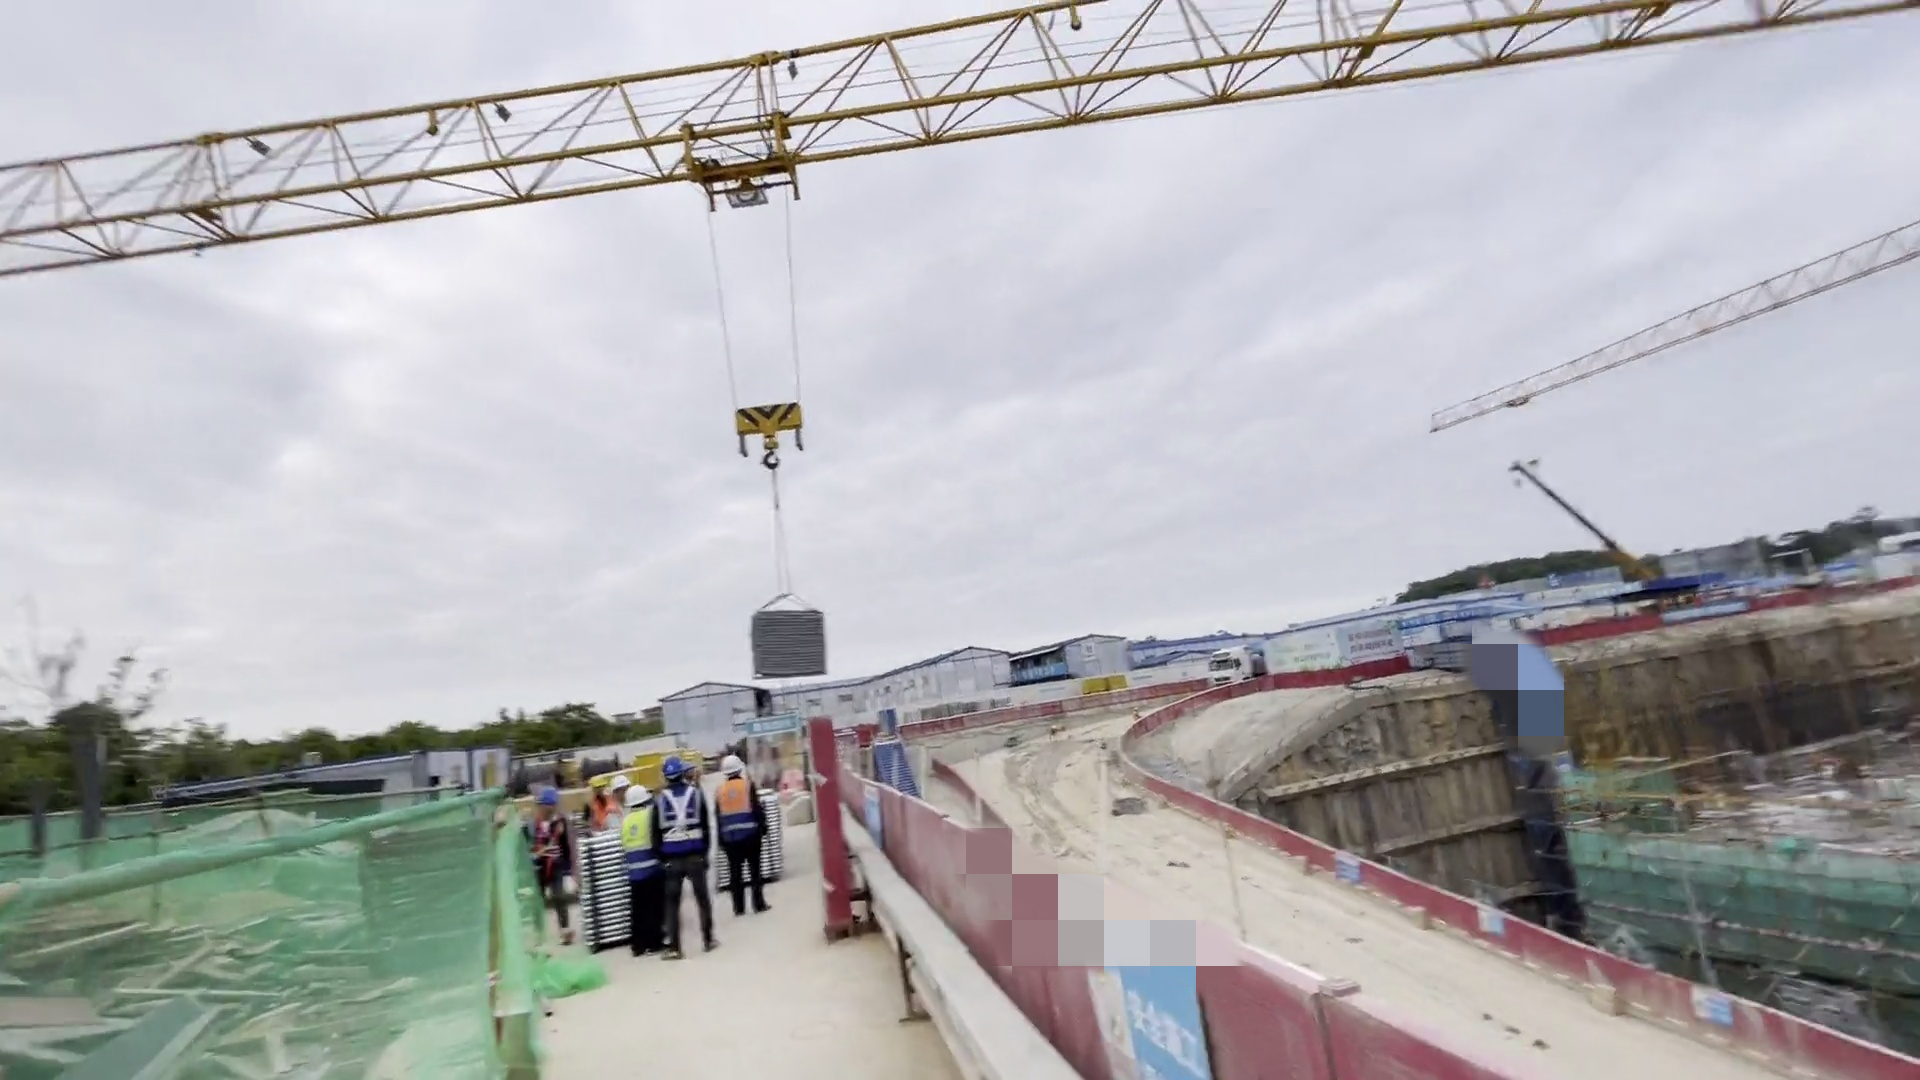fence: (809, 743, 1656, 1068)
helmet: (662, 753, 696, 784), (713, 753, 752, 779), (535, 783, 568, 810), (625, 785, 661, 808), (607, 773, 635, 793), (589, 773, 614, 794)
hook: (728, 393, 813, 465)
person: (657, 749, 728, 964), (522, 775, 589, 953), (712, 753, 780, 910), (622, 777, 665, 958), (610, 765, 630, 837), (590, 774, 612, 829)
scaffold: (746, 586, 837, 686)
slogan: (1038, 863, 1222, 1031), (1273, 589, 1418, 681), (965, 636, 1108, 717), (859, 784, 931, 873), (1677, 960, 1744, 1053), (1467, 884, 1522, 968), (1322, 841, 1388, 908)
vest: (717, 777, 766, 856), (662, 785, 707, 857), (626, 811, 660, 888), (530, 819, 569, 882), (590, 797, 621, 830)
